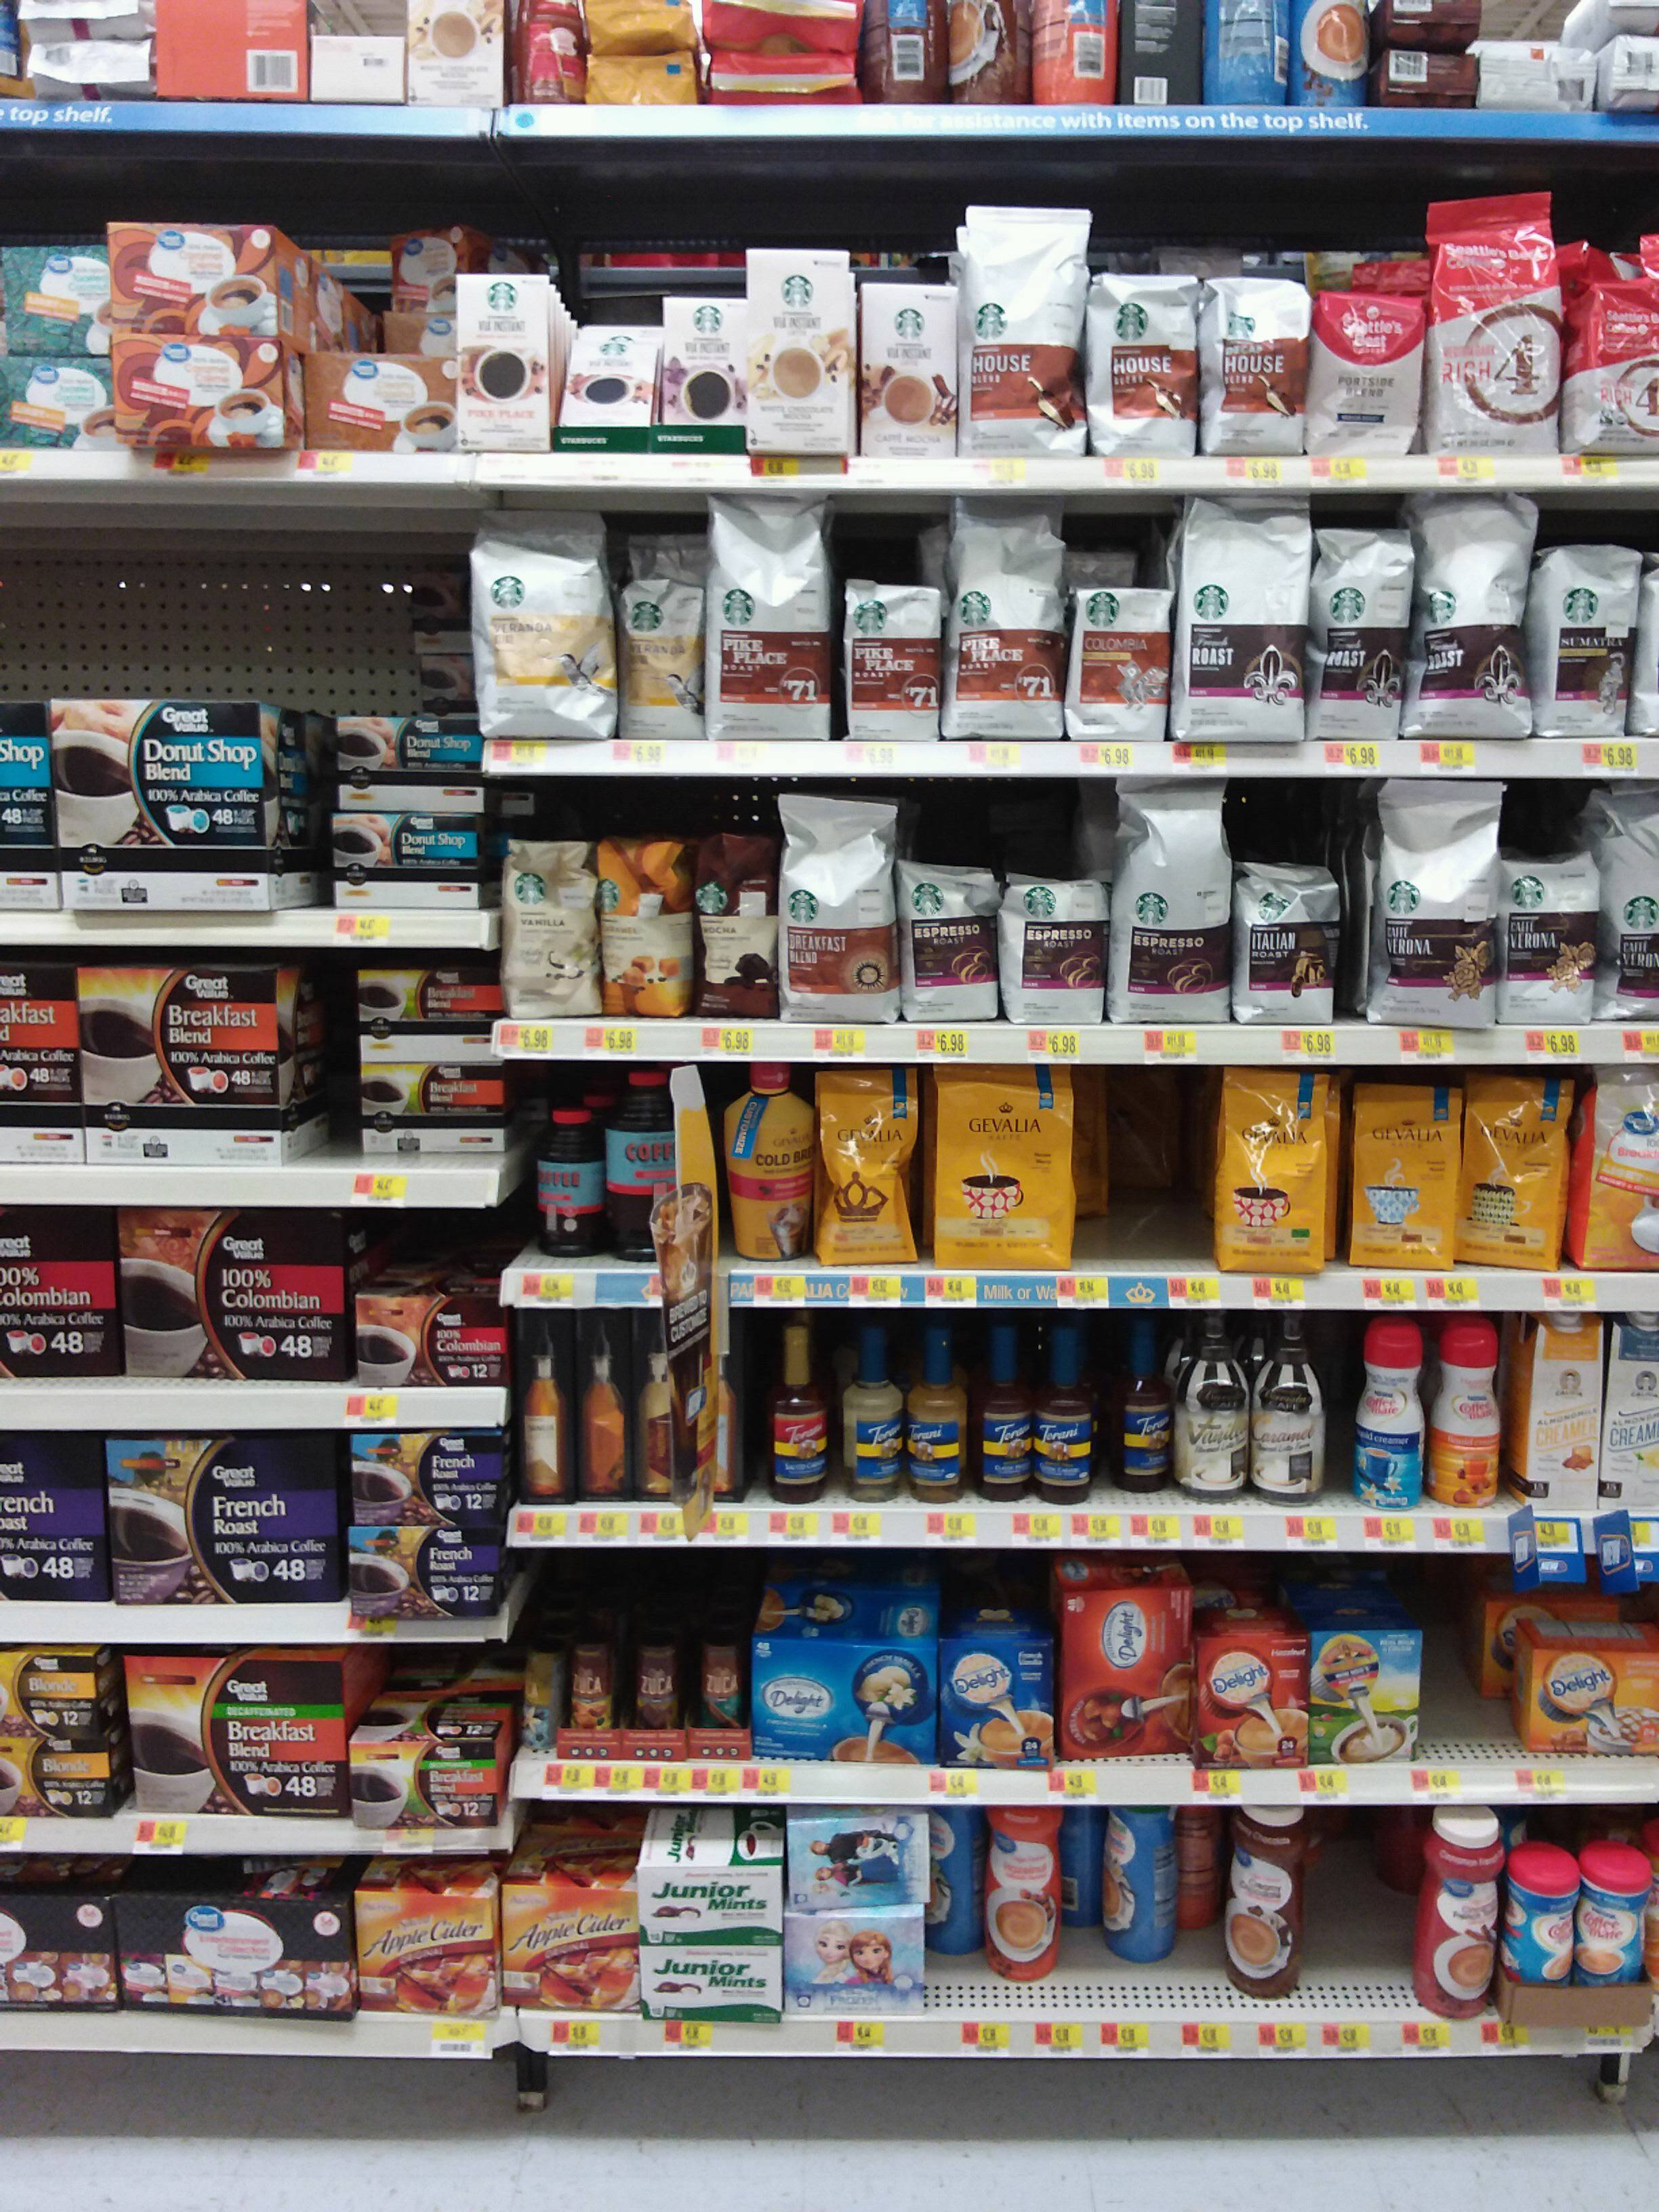Misplacement: (1073, 1066, 1218, 1271)
Out-of-stock: (1307, 1811, 1417, 2020)
